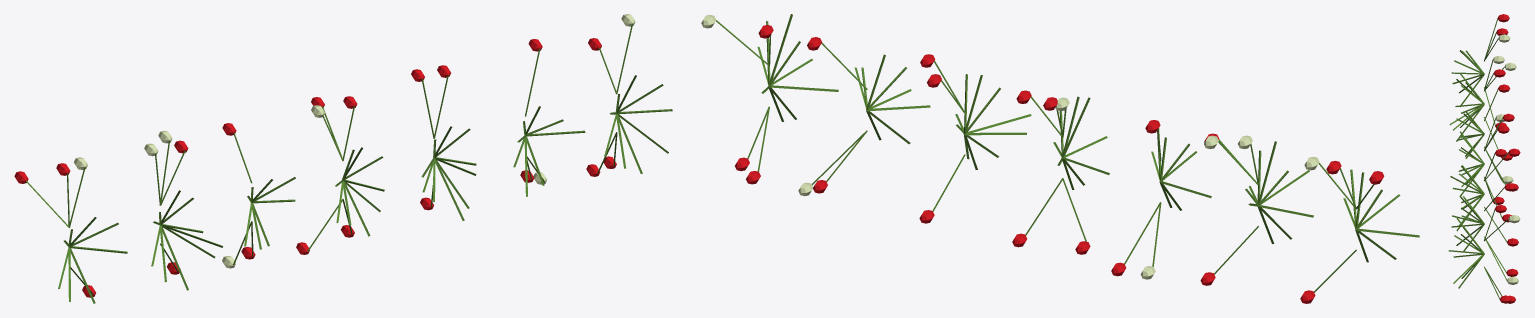
File: r1c2_rest.obj
3 renders of one model, left to right at view 1: azimuth 30°, elevation 25°; view 2: azimuth 150°, elevation 25°; view 3: azimuth 270°, elevation 25°, orthographic. The views are drawn at different scales.
Parts seen in each view (by area): view 1: r1c2_rest; view 2: r1c2_rest; view 3: r1c2_rest.
Boxes of the visible parts, x1=… form: r1c2_rest: x1=14, y1=14, x2=672, y2=303; r1c2_rest: x1=701, y1=14, x2=1419, y2=303; r1c2_rest: x1=1448, y1=14, x2=1520, y2=303.
Bounding box in the file's own units: 1.71 × 0.3997 × 0.2545.
